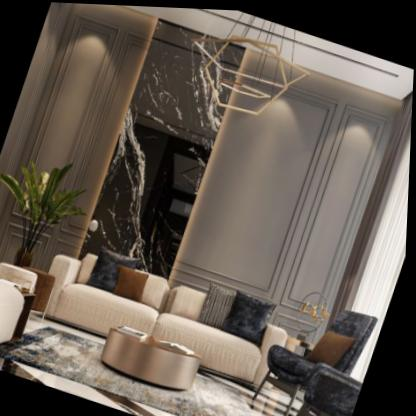Curtains: (341, 88, 413, 378)
Futec frame: (171, 61, 393, 320)
Sofa: (34, 233, 300, 392)
Wall Panel: (0, 0, 407, 348)
